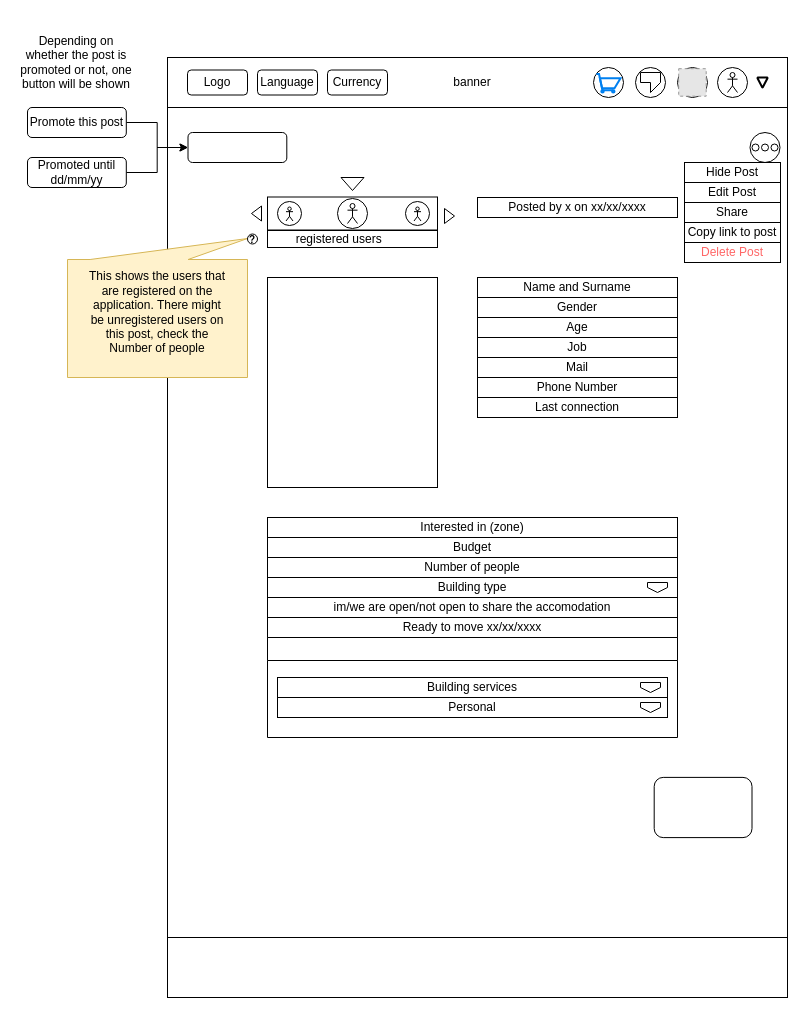
Some shapes in this 806 by 1015 pixel diagram are drawn without their labels. Grey dashed boxes stand in for pictures. Each missing label, with the box of its shape:
Check users that liked this post: (653, 776, 752, 838)
footpage: (166, 936, 788, 998)
Linked people Images: (266, 276, 438, 488)
Tags: (266, 636, 678, 738)
